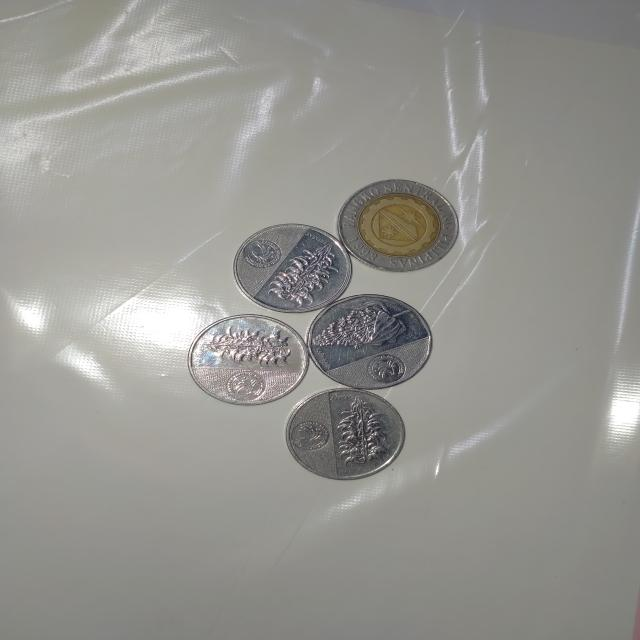10_New_Back: (316, 297, 419, 353)
10_Old_Back: (340, 185, 452, 263)
